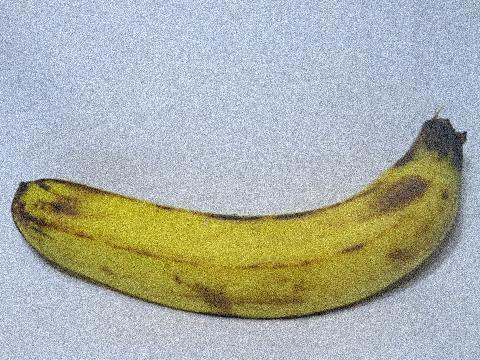ripe: (3, 93, 471, 336)
